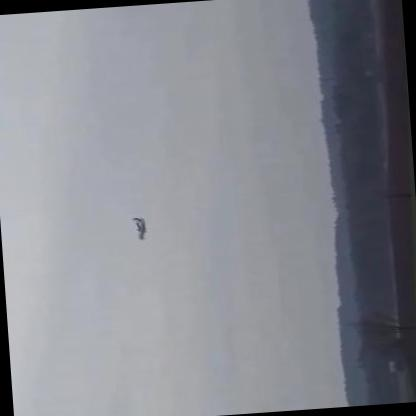plane: (132, 217, 152, 241)
